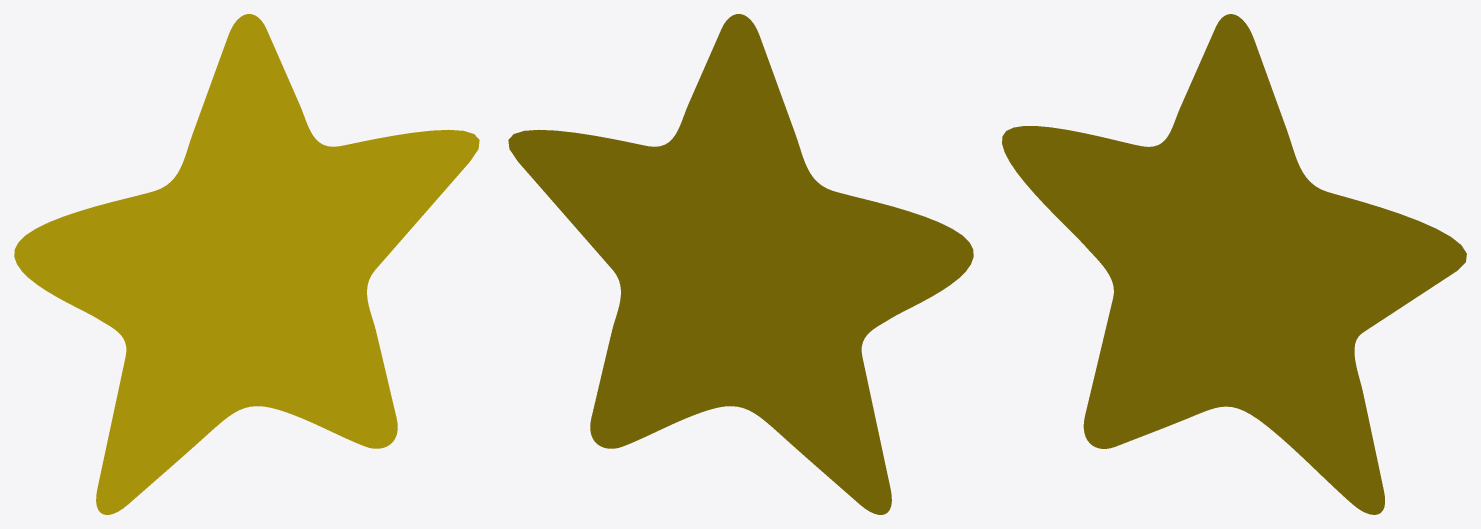
The model's file is star.glb.
3 views of the same model, side by side, from view 1: azimuth 30°, elevation 25°; view 2: azimuth 150°, elevation 25°; view 3: azimuth 330°, elevation 25° (orthographic).
Visible parts, largest first — view 1: Curve; view 2: Curve; view 3: Curve.
Part boxes in pixels (x1,y1,x2,y2): Curve: (14,14,479,514); Curve: (508,14,973,514); Curve: (1002,14,1466,514).
Bounding box in the file's own units: 0.728 × 0.6986 × 1.55e-16.
